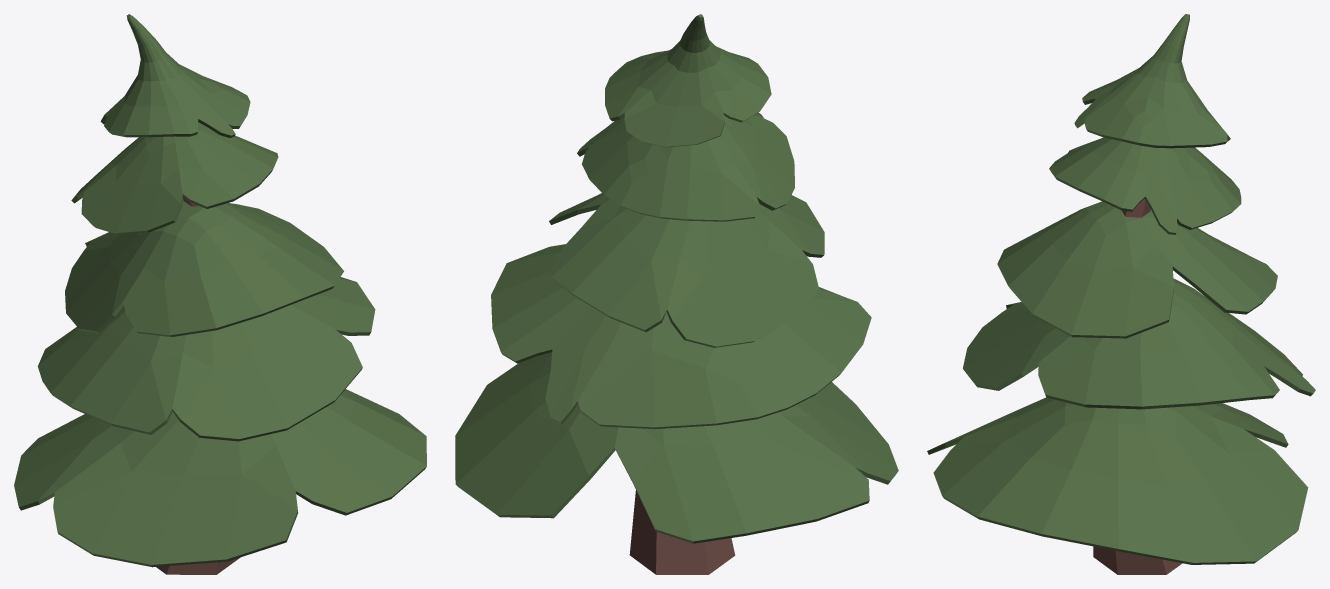
Rendered from pinetree_1.glb.
3 views of the same model, side by side, from view 1: azimuth 30°, elevation 25°; view 2: azimuth 150°, elevation 25°; view 3: azimuth 270°, elevation 25° (orthographic). The views are drawn at different scales.
Parts seen in each view (by area): view 1: PineTree_1; view 2: PineTree_1; view 3: PineTree_1.
Part boxes in pixels (bbox=[...]): PineTree_1: bbox=[14, 14, 426, 574]; PineTree_1: bbox=[455, 14, 898, 574]; PineTree_1: bbox=[927, 14, 1315, 574].
Bounding box in the file's own units: 4.69 × 6.48 × 4.36.
